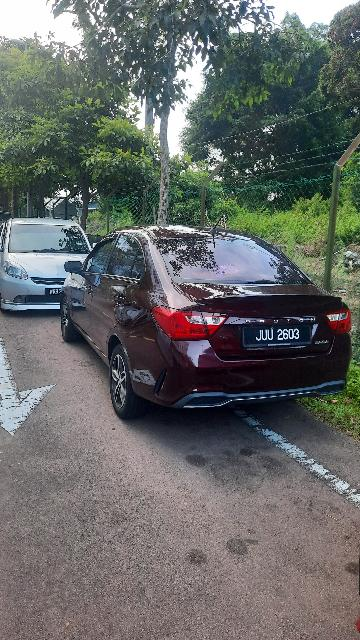License_Plate: (240, 323, 327, 354)
car: (58, 222, 360, 427)
